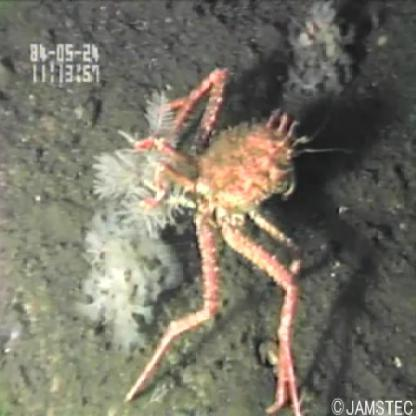Bio: (87, 59, 313, 415)
